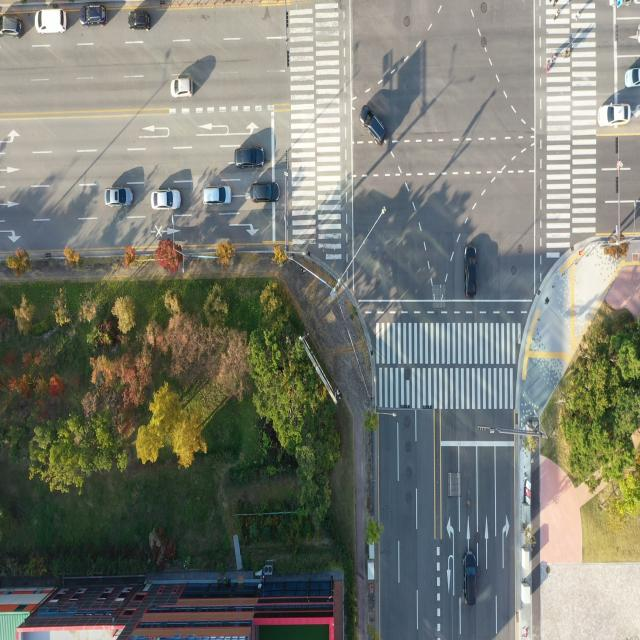car: (359, 106, 386, 150), (38, 6, 74, 35), (596, 104, 632, 128), (463, 550, 478, 606), (463, 246, 478, 299), (234, 147, 264, 170), (251, 182, 279, 205), (78, 4, 107, 26), (202, 185, 230, 206), (154, 189, 181, 210), (105, 187, 131, 207), (128, 12, 152, 32), (171, 79, 193, 100), (0, 17, 23, 37), (624, 67, 640, 91)
